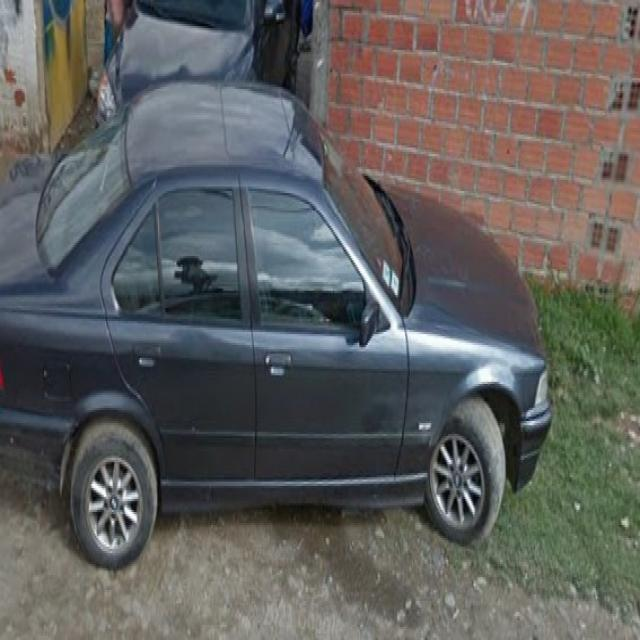truck: (3, 90, 553, 571)
